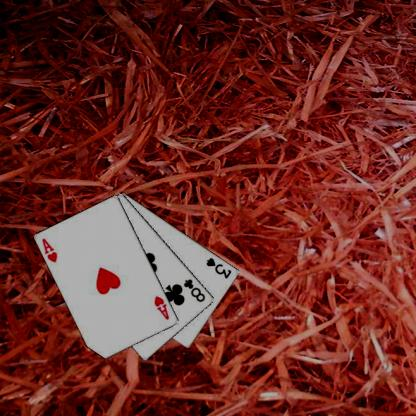3S: (204, 255, 233, 279)
8C: (181, 276, 207, 304)
AH: (39, 236, 59, 264), (152, 294, 170, 322)
